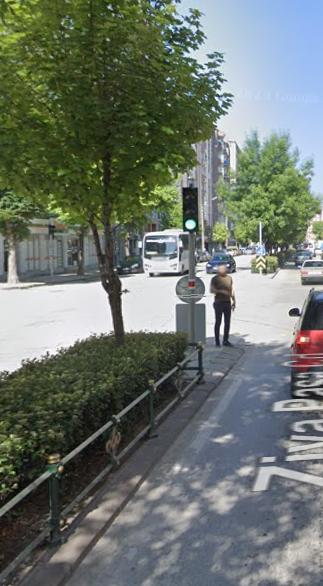greenlight: (181, 183, 201, 233)
